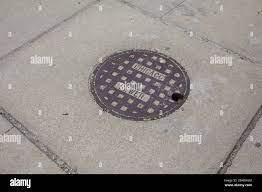closed manhole-not overflowing-: (88, 49, 191, 122)
